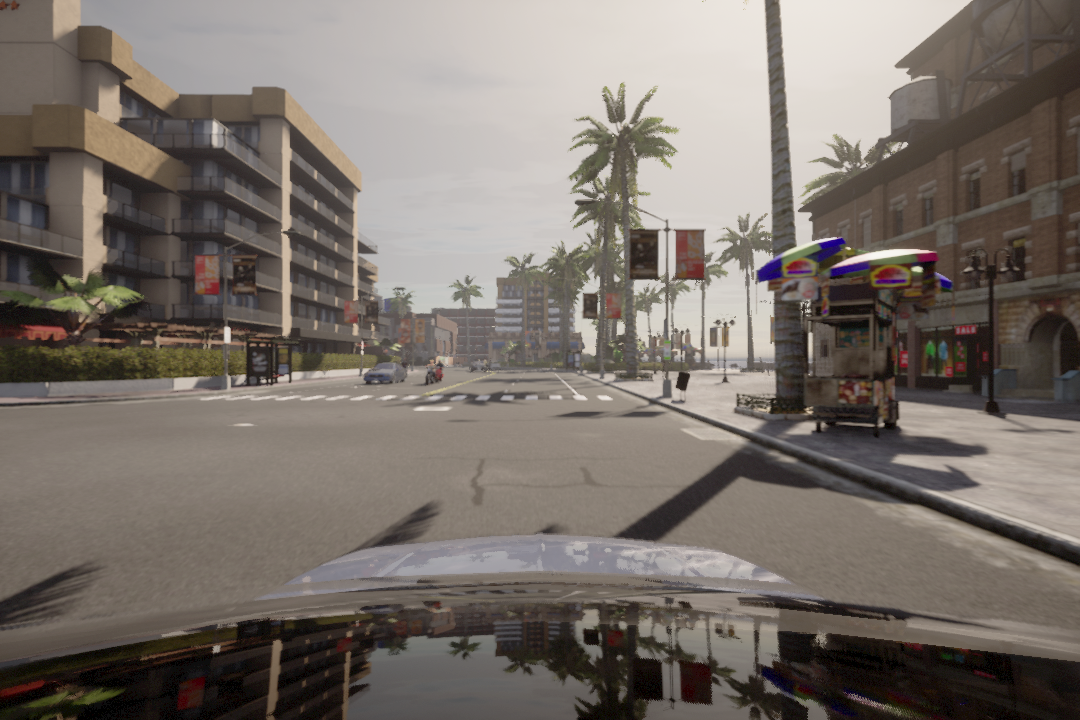walkside: (197, 392, 627, 403)
